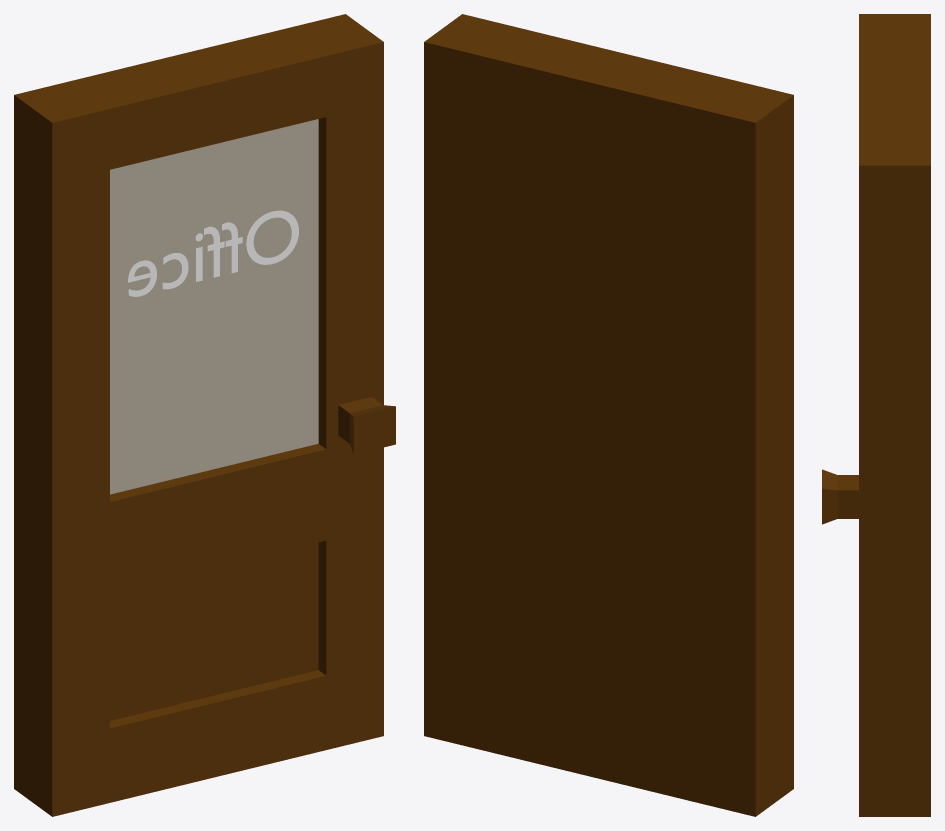
Rendered from door.fbx.
The picture shows the model from 3 angles, left to right: view 1: azimuth 30°, elevation 25°; view 2: azimuth 150°, elevation 25°; view 3: azimuth 270°, elevation 25°; orthographic projection. The views are drawn at different scales.
Parts seen in each view (by area): view 1: Door, office; view 2: Door; view 3: Door.
Boxes of the visible parts, bbox=[...] form: Door: bbox=[14, 14, 395, 816]; office: bbox=[128, 210, 298, 296]; Door: bbox=[424, 14, 793, 816]; Door: bbox=[822, 14, 930, 816].
Size of the model in its own units: 100 by 200 by 30.29.
